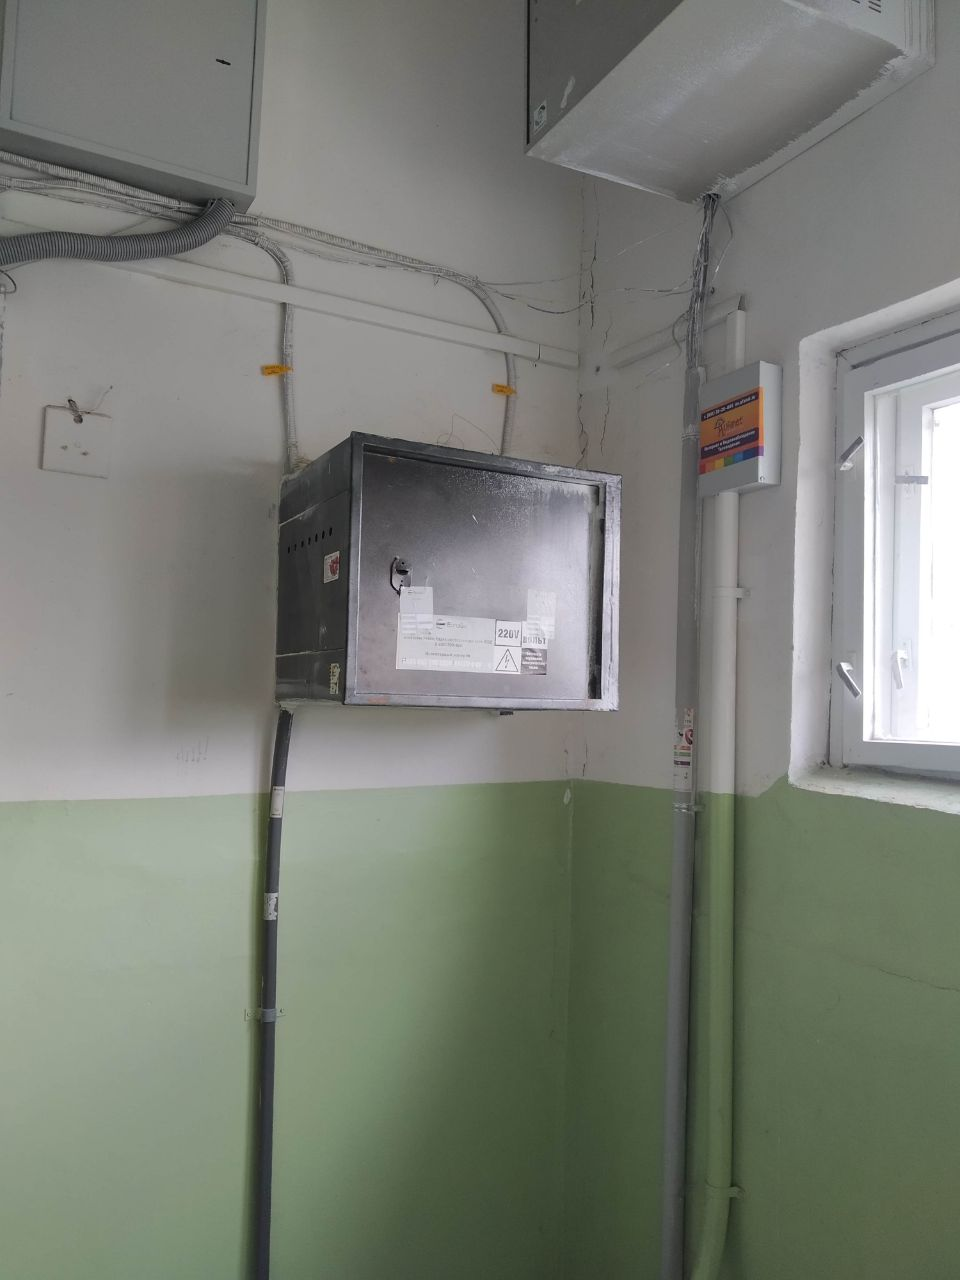shta-9m: (269, 425, 634, 726)
